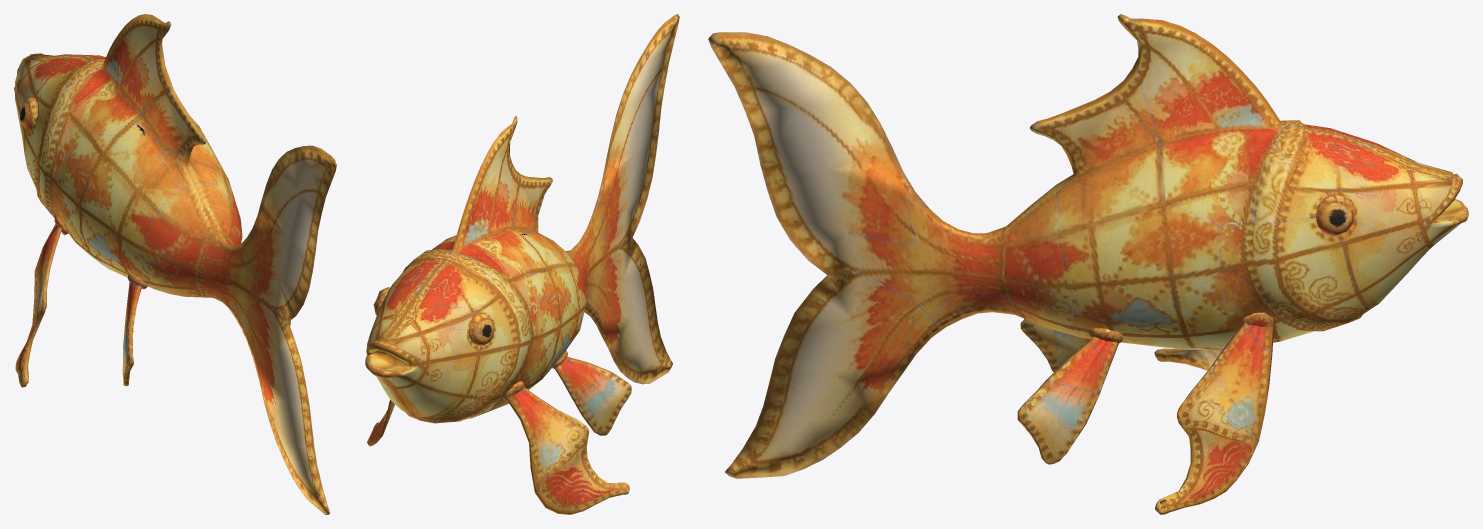
The model's file is 红鲤鱼灯.glb.
3 views of the same model, side by side, from view 1: azimuth 30°, elevation 25°; view 2: azimuth 150°, elevation 25°; view 3: azimuth 270°, elevation 25° (orthographic). The views are drawn at different scales.
Parts seen in each view (by area): view 1: tripo_node_d95ea234-ffc8-4c14-b9cc-fced0714440c; view 2: tripo_node_d95ea234-ffc8-4c14-b9cc-fced0714440c; view 3: tripo_node_d95ea234-ffc8-4c14-b9cc-fced0714440c.
Boxes of the visible parts, <box> form: tripo_node_d95ea234-ffc8-4c14-b9cc-fced0714440c: <box>14,14,336,514</box>; tripo_node_d95ea234-ffc8-4c14-b9cc-fced0714440c: <box>365,14,679,514</box>; tripo_node_d95ea234-ffc8-4c14-b9cc-fced0714440c: <box>708,14,1468,514</box>.
Size of the model in its own units: 0.4902 by 0.6738 by 0.998.
Materials: 1 (1 with a texture image).
